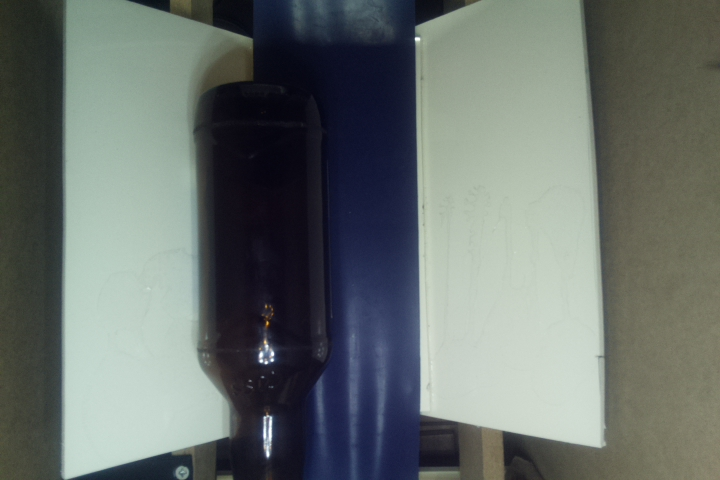makju: (195, 81, 330, 480)
